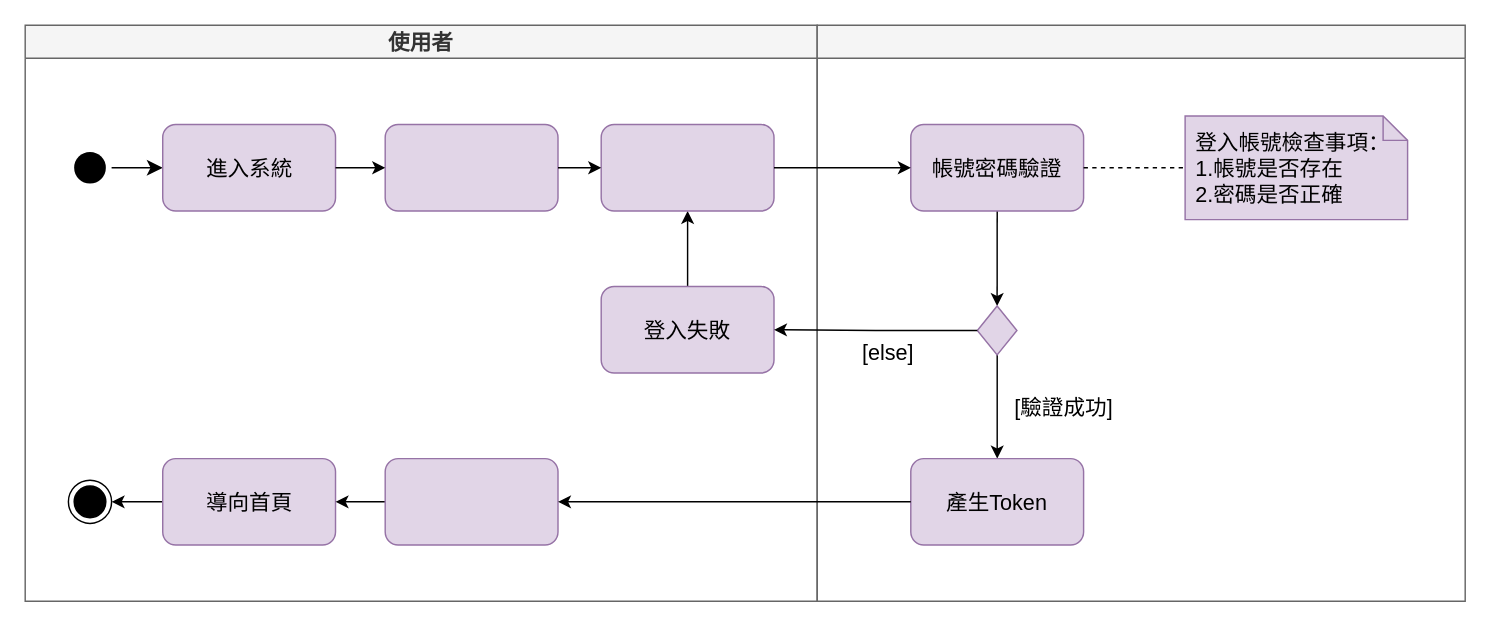
The diagram is 1490 pixels wide and 626 high, and some of its shapes have lost their labels. The shapes that lost their labels are listed below. From the top down, each one's box as (x1, y1, x2, y2) in pixels, then its label:
(384, 123, 558, 211): 點擊登入
(600, 123, 774, 211): 輸入帳號密碼
(816, 24, 1465, 601): 伺服器
(384, 457, 558, 545): 成功登入
